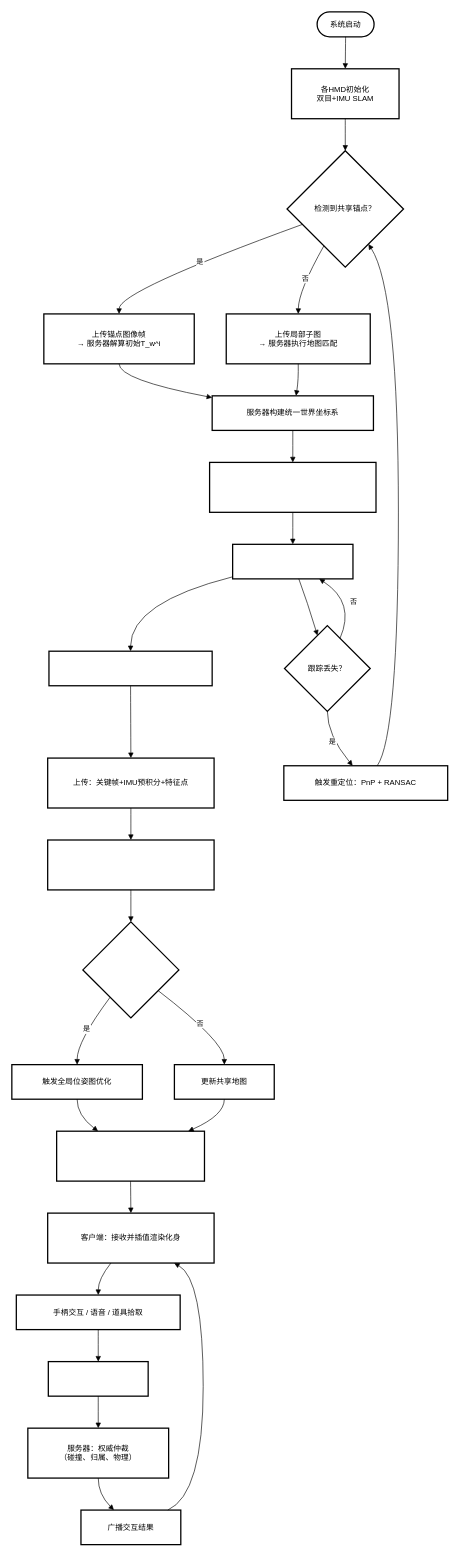
The diagram is 459 pixels wide and 1556 high, and some of its shapes have lost their labels. The centre of each missing label's shape, as x and y in pixels:
"上传交互事件" goes at (97,1378).
"前端：视觉+IMU紧耦合跟踪" goes at (130,668).
"各HMD进入主循环" goes at (292,561).
"广播全局坐标原点与变换矩阵" goes at (292,487).
"广播所有用户最新位姿 （50Hz，四元数+位置）" goes at (130,1155).
"服务器：滑动窗口BA + 子图融合" goes at (130,864).
"检测到回环？" goes at (130,969).
